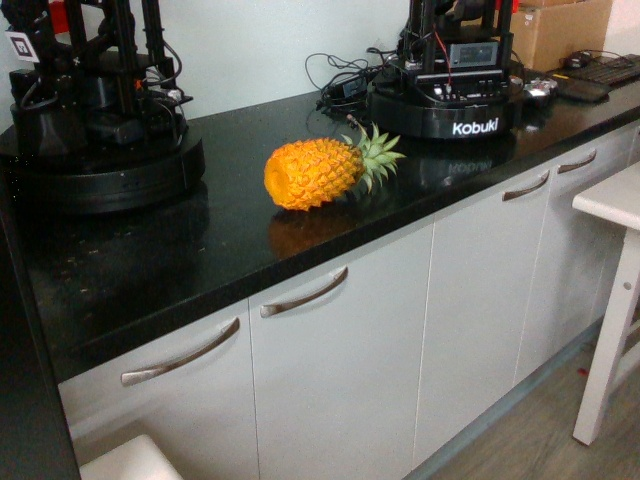pineapple: (258, 133, 403, 212)
